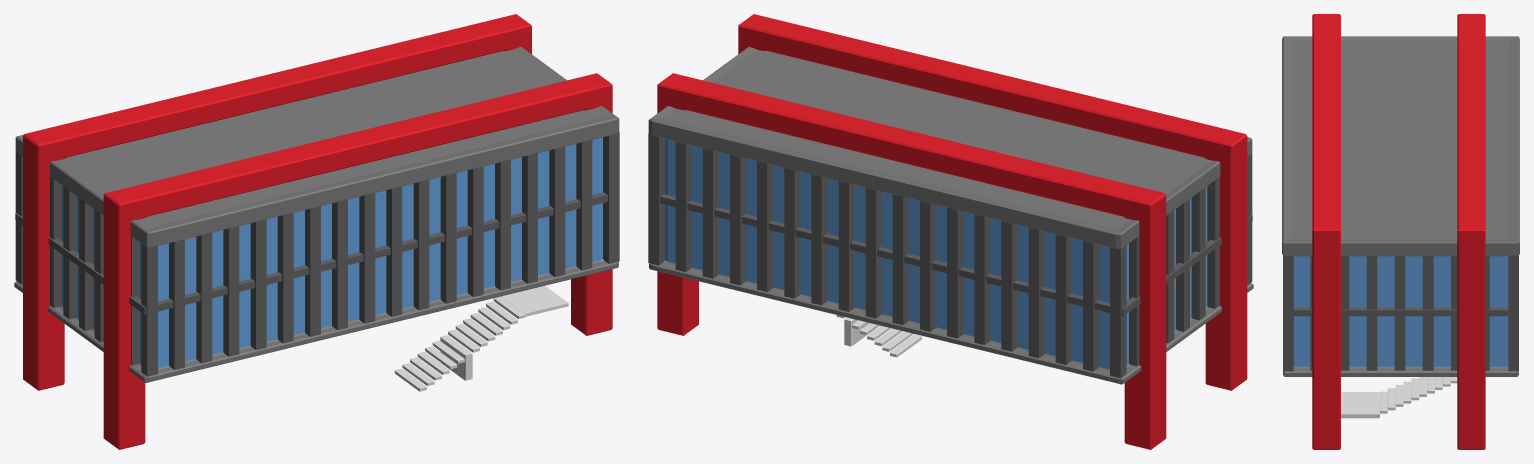
Rendered from MASP.fbx.
3 views of the same model, side by side, from view 1: azimuth 30°, elevation 25°; view 2: azimuth 150°, elevation 25°; view 3: azimuth 270°, elevation 25° (orthographic). The views are drawn at different scales.
Parts seen in each view (by area): view 1: Cube, Cube.003, Cube.001, Cube.002, Cube.006, Cube.004, Cube.008, Cube.005; view 2: Cube, Cube.003, Cube.001, Cube.002, Cube.004, Cube.006, Cube.005; view 3: Cube, Cube.003, Cube.002, Cube.001, Cube.007, Cube.005, Cube.008.
Part boxes in pixels (bbox=[...]): Cube: bbox=[14, 47, 619, 382]; Cube.003: bbox=[23, 14, 612, 449]; Cube.001: bbox=[15, 132, 619, 376]; Cube.002: bbox=[50, 177, 139, 365]; Cube.006: bbox=[394, 296, 525, 391]; Cube.004: bbox=[15, 192, 607, 314]; Cube.008: bbox=[501, 285, 568, 316]; Cube.005: bbox=[15, 214, 142, 312]; Cube: bbox=[648, 46, 1253, 384]; Cube.003: bbox=[657, 14, 1247, 449]; Cube.001: bbox=[648, 133, 1252, 378]; Cube.002: bbox=[1129, 177, 1219, 366]; Cube.004: bbox=[660, 194, 1252, 316]; Cube.006: bbox=[836, 315, 921, 357]; Cube.005: bbox=[1123, 217, 1250, 315]; Cube: bbox=[1282, 36, 1519, 376]; Cube.003: bbox=[1312, 14, 1485, 449]; Cube.002: bbox=[1310, 256, 1489, 370]; Cube.001: bbox=[1283, 255, 1518, 371]; Cube.007: bbox=[1372, 377, 1457, 416]; Cube.005: bbox=[1293, 307, 1508, 316]; Cube.008: bbox=[1341, 395, 1379, 416].
Size of the model in its own units: 799 by 421 by 371.
